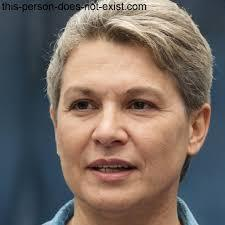person: (41, 0, 216, 221)
